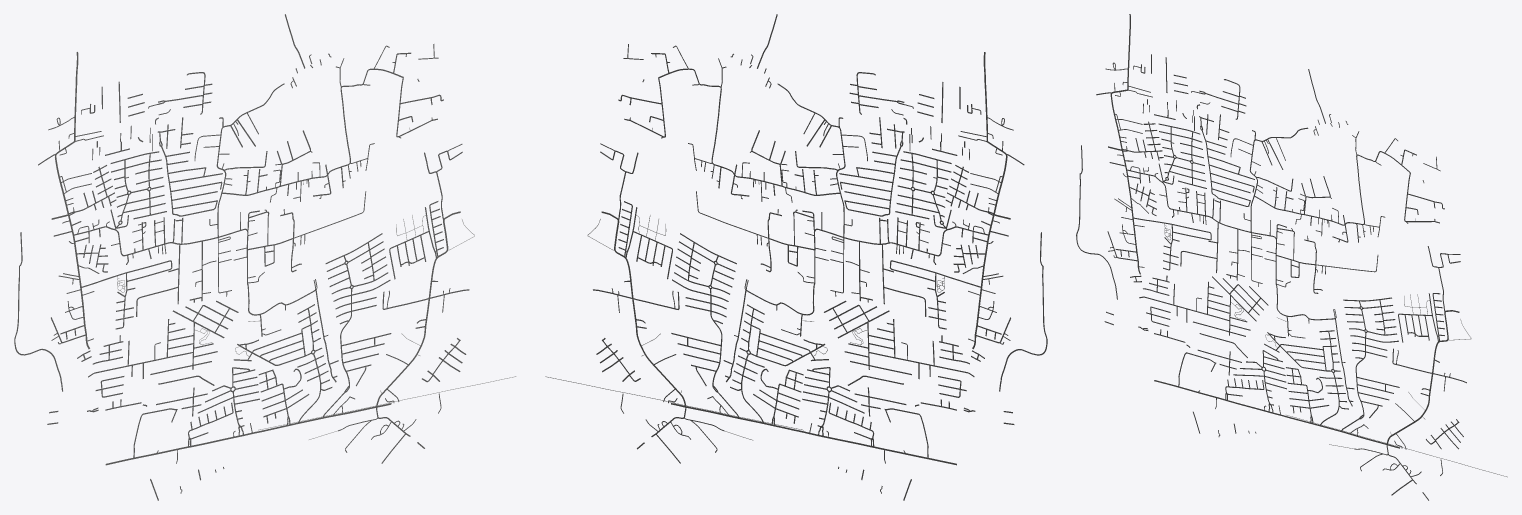
Rendered from roads_0_1.obj.
3 renders of one model, left to right at view 1: azimuth 30°, elevation 25°; view 2: azimuth 150°, elevation 25°; view 3: azimuth 330°, elevation 25°, orthographic. The views are drawn at different scales.
Bounding box in the file's own units: 2526 × 2336 × 4.44.
3 materials, 3 textured.
